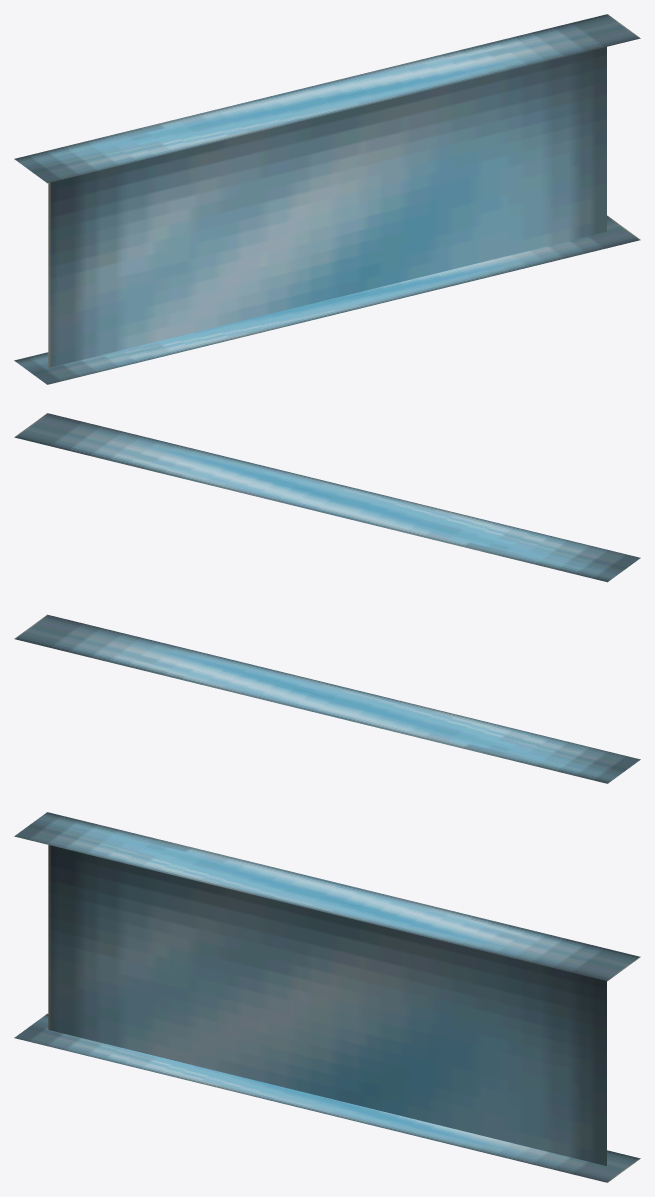
The model's file is Geländer1 [Blaues GLas]_602.glb.
3 renders of one model, top to bottom at view 1: azimuth 30°, elevation 25°; view 2: azimuth 150°, elevation 25°; view 3: azimuth 330°, elevation 25°, orthographic.
Parts seen in each view (by area): view 1: pPlaneShape223, pPlaneShape224, pPlaneShape225; view 2: pPlaneShape224, pPlaneShape225; view 3: pPlaneShape223, pPlaneShape224, pPlaneShape225.
Part boxes in pixels (left/top/right/bottom): pPlaneShape223: left=48, top=47, right=606, bottom=367; pPlaneShape224: left=14, top=14, right=640, bottom=183; pPlaneShape225: left=14, top=215, right=640, bottom=384; pPlaneShape224: left=14, top=413, right=640, bottom=582; pPlaneShape225: left=14, top=614, right=640, bottom=783; pPlaneShape223: left=48, top=845, right=606, bottom=1165; pPlaneShape224: left=14, top=812, right=640, bottom=981; pPlaneShape225: left=14, top=1013, right=640, bottom=1182.
Bounding box in the file's own units: 0.25 × 0.0811 × 0.0243.
3 materials, 3 textured.
